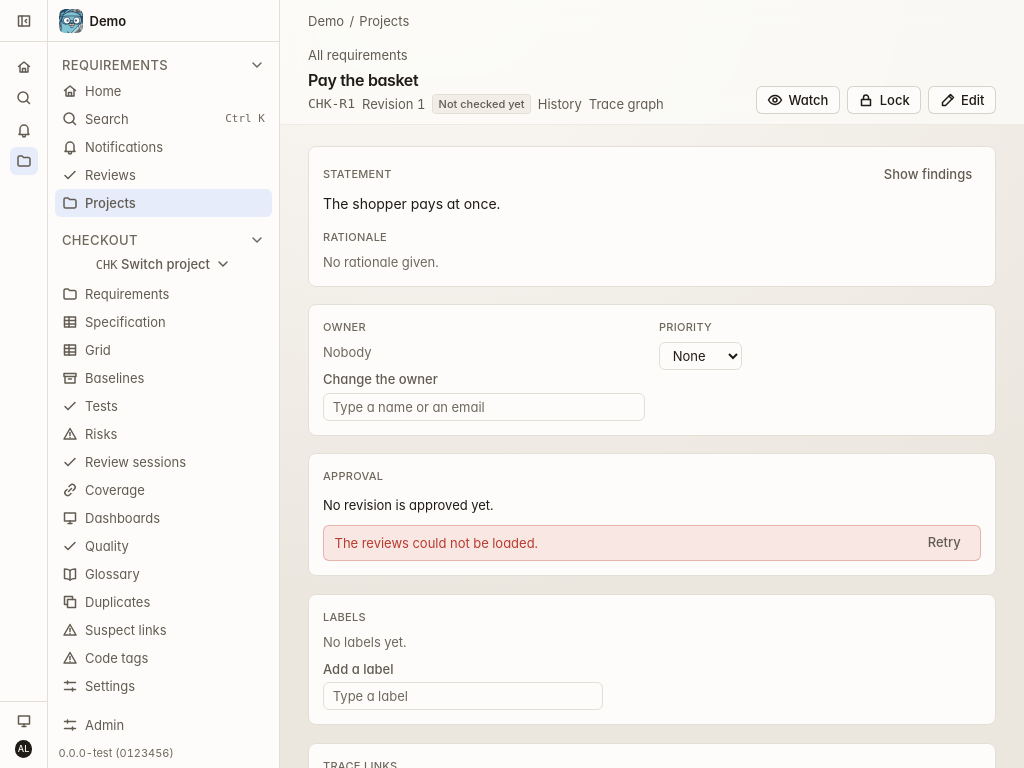
the requirement's watch button › says so when watching cannot be changed
Click the button "Watch" at (798, 100), box [756,86,840,114]
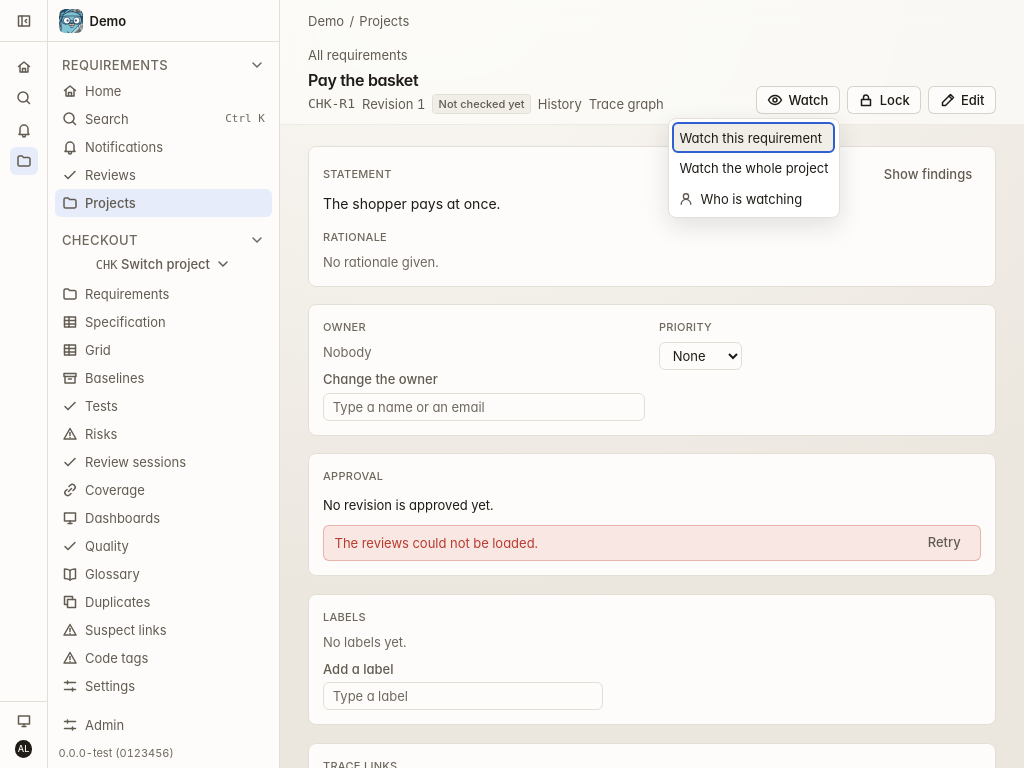
Click the menu item "Watch this requirement" at (754, 138), box [672,122,835,153]
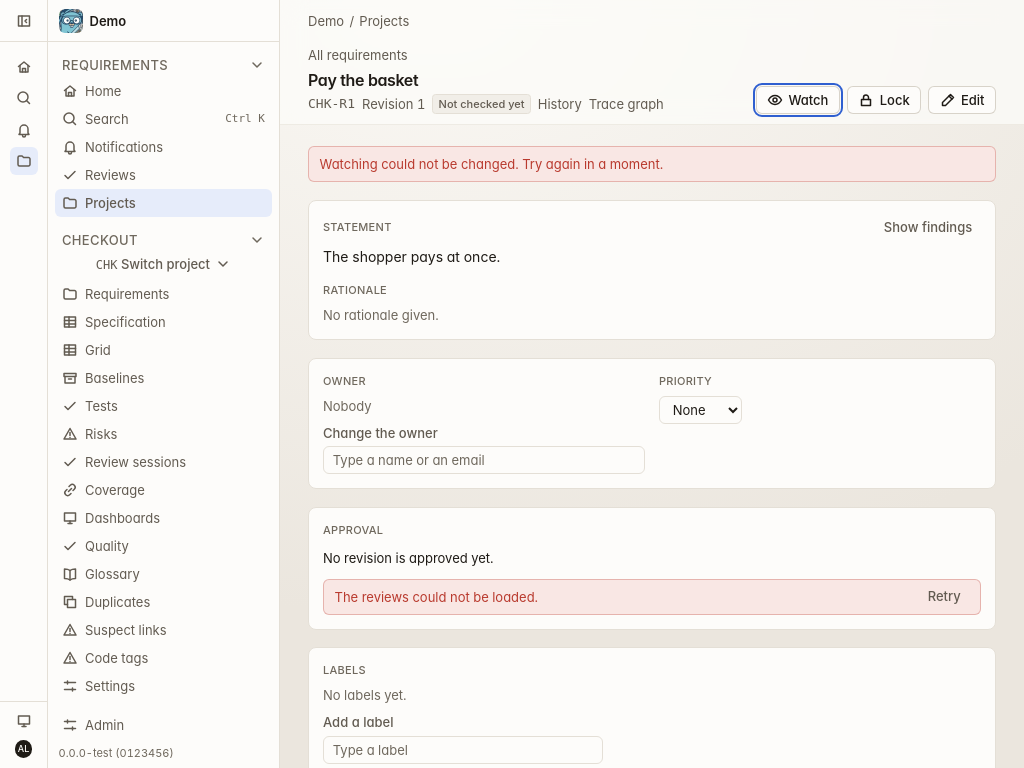
Expected: the text "Watching could not be changed. Try again in a moment." is shown, [320,156,663,172]
